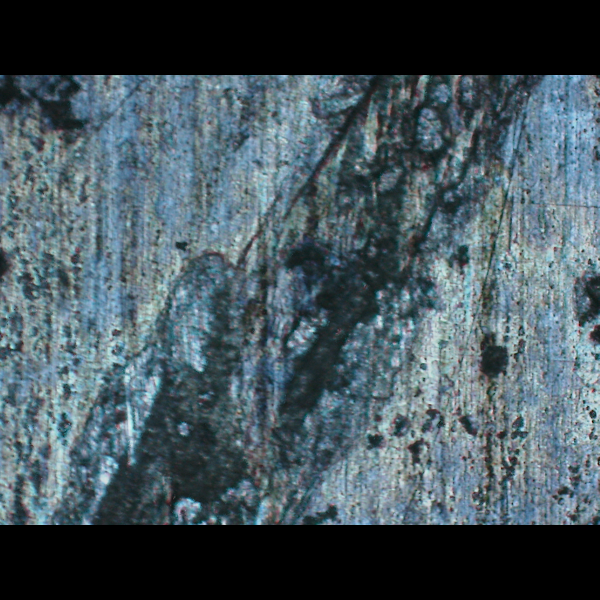d: (31, 75, 561, 523)
